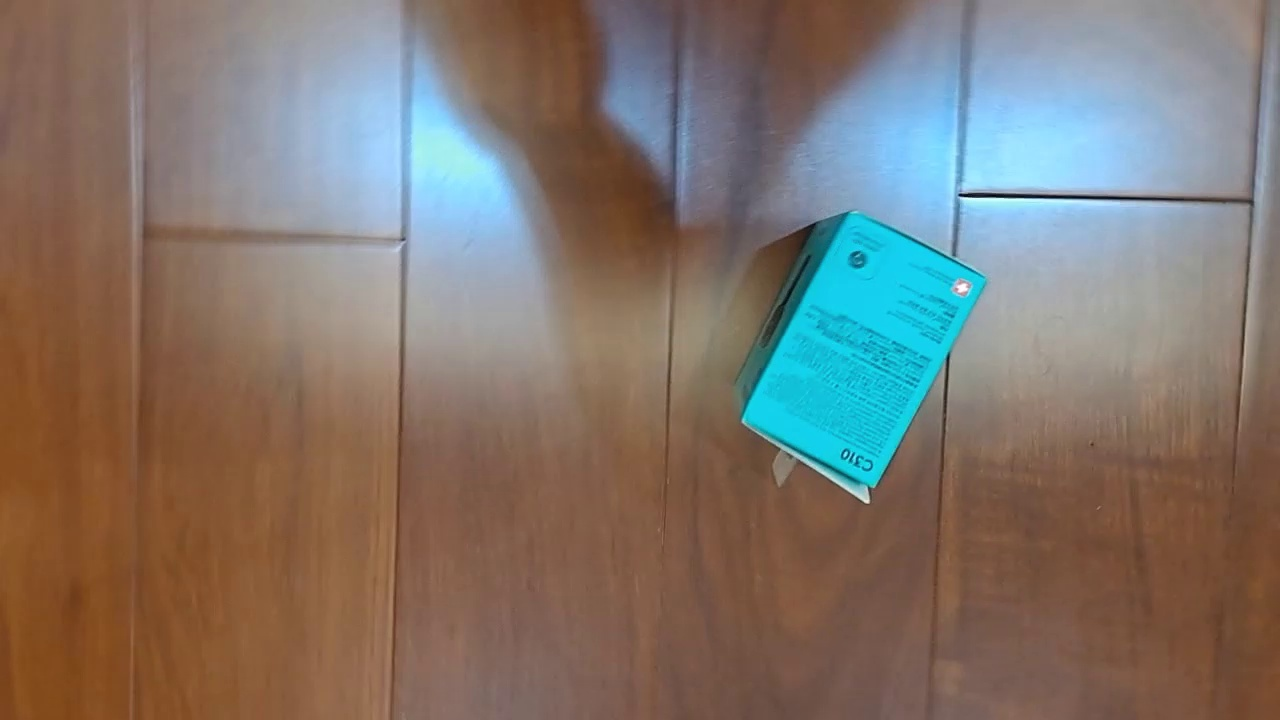webcam: (733, 210, 989, 505)
